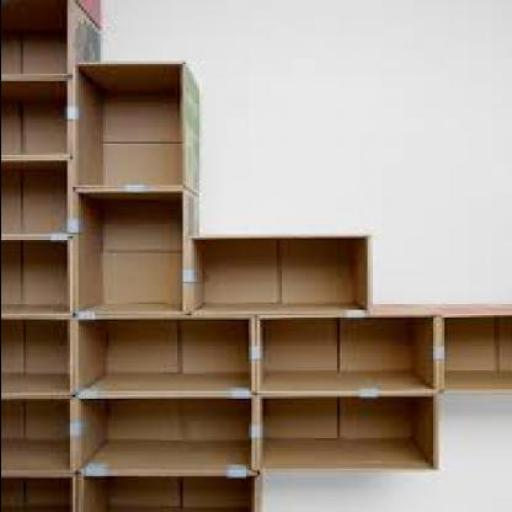cardboard: (251, 305, 446, 397), (68, 64, 202, 197), (74, 189, 207, 319), (66, 315, 258, 399), (187, 236, 374, 319), (72, 398, 262, 478), (259, 398, 443, 475), (3, 160, 107, 240), (3, 2, 102, 79), (437, 308, 511, 398), (74, 478, 264, 510), (3, 316, 77, 398), (2, 77, 72, 161), (3, 399, 75, 480), (2, 476, 80, 511)
